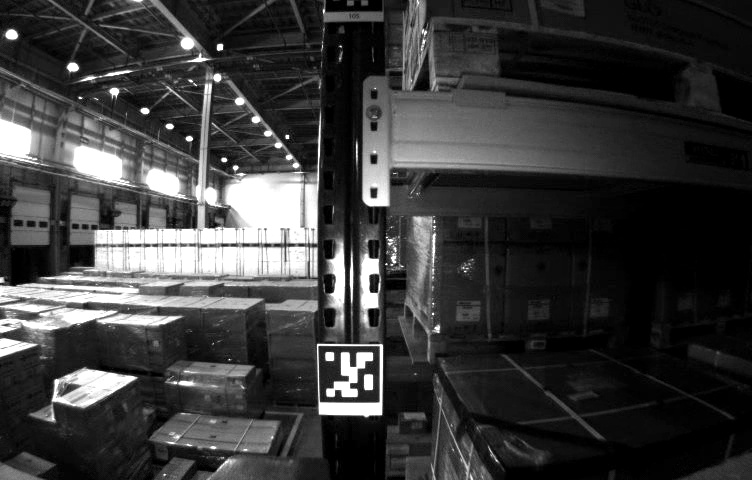True Barcode: (542, 1, 587, 17)
